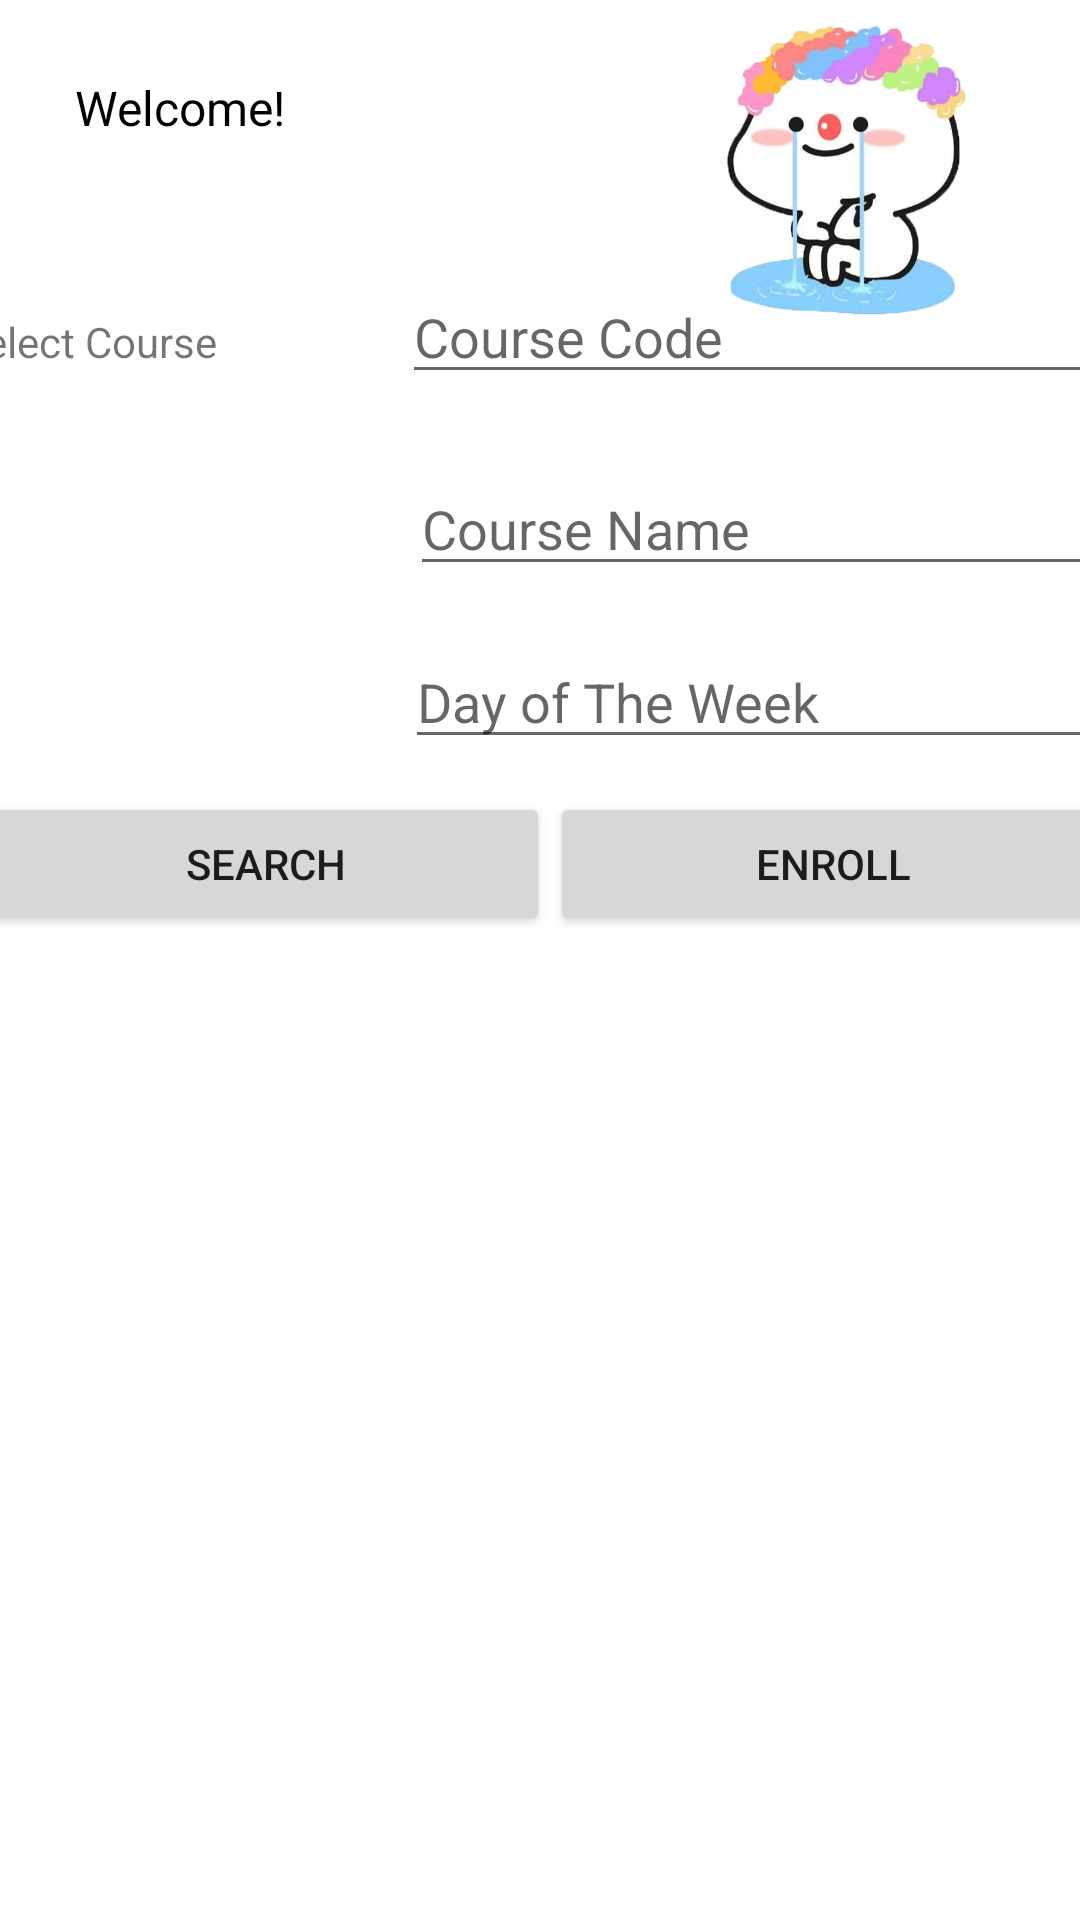

Icon bounding boxes for this 1080w x 1920h phone screenshot, format (x1, y1, x2, y2):
clown: (727, 26, 966, 315)
